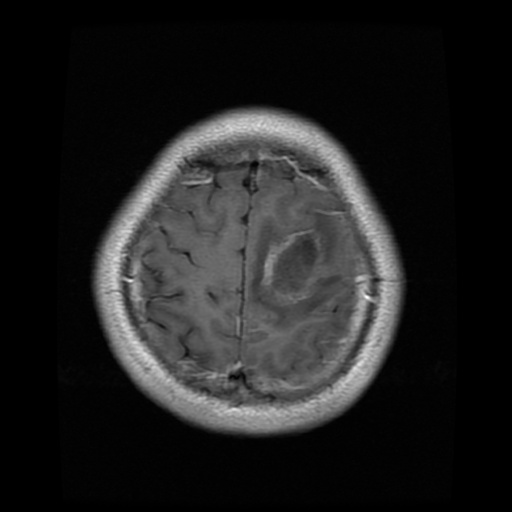glioma: (251, 213, 341, 329)
